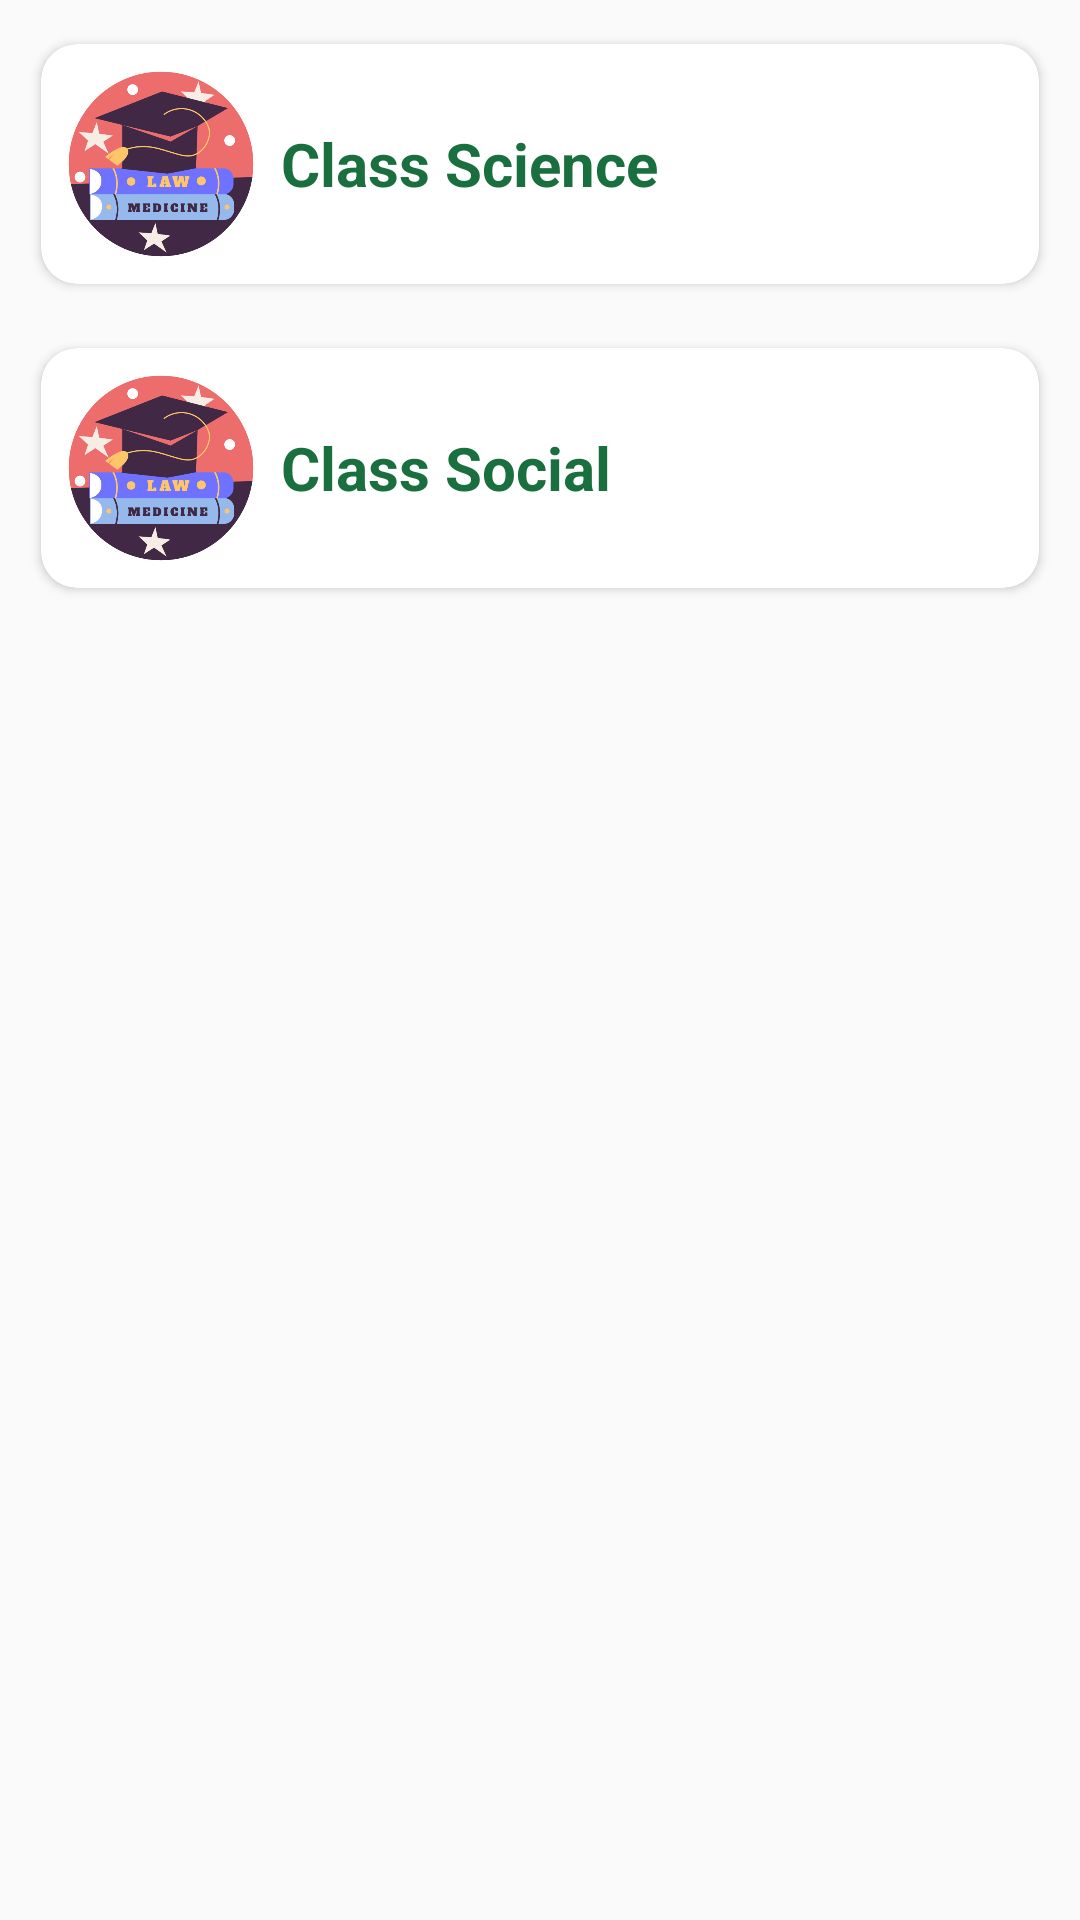

Icons on this 1080w x 1920h Android screen, each with its box as (x1, y1, x2, y2):
major: (69, 72, 253, 257), (69, 376, 253, 561)
